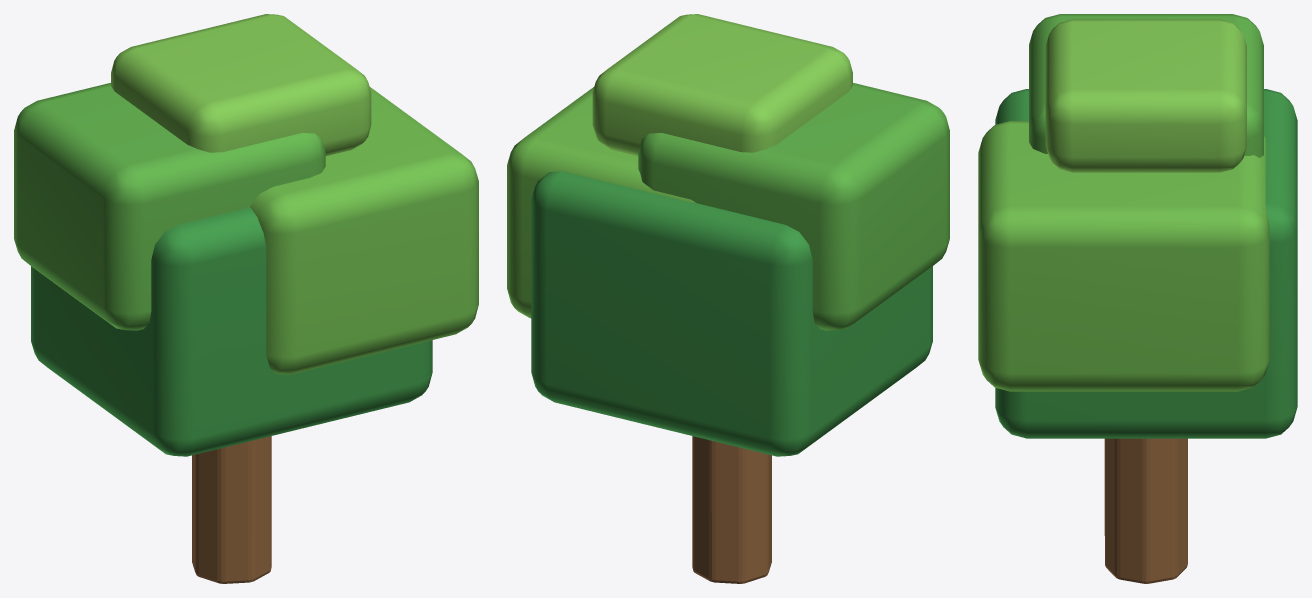
The model's file is tree.glb.
3 renders of one model, left to right at view 1: azimuth 30°, elevation 25°; view 2: azimuth 150°, elevation 25°; view 3: azimuth 270°, elevation 25°, orthographic.
Visible parts, largest first — view 1: Foliage, Foliage.002, Foliage.001, Foliage.003, Trunk; view 2: Foliage, Foliage.001, Foliage.003, Trunk, Foliage.002; view 3: Foliage.002, Foliage.003, Foliage, Trunk, Foliage.001.
Part boxes in pixels (x1,y1,x2,y2): Foliage: (31, 207, 432, 456); Foliage.002: (250, 87, 478, 374); Foliage.001: (14, 83, 325, 330); Foliage.003: (111, 14, 371, 155); Trunk: (192, 436, 271, 583); Foliage: (531, 171, 932, 456); Foliage.001: (638, 83, 949, 330); Foliage.003: (592, 14, 852, 155); Trunk: (692, 436, 771, 583); Foliage.002: (507, 87, 695, 318); Foliage.002: (978, 121, 1269, 391); Foliage.003: (1045, 19, 1246, 172); Foliage: (995, 89, 1297, 438); Trunk: (1104, 438, 1187, 583); Foliage.001: (1029, 14, 1263, 157).
Size of the model in its own units: 3.65 by 5.1 by 2.85.
